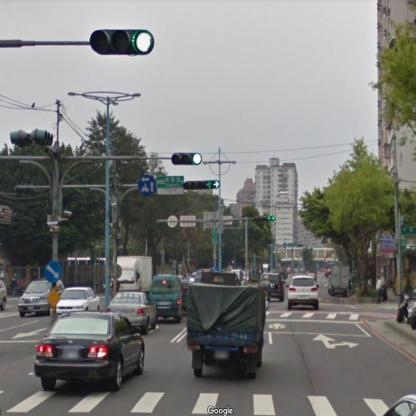Green Light: (89, 29, 154, 57), (169, 151, 202, 166), (181, 181, 221, 191), (252, 212, 275, 220)
